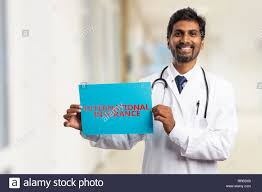Indian_Male: (163, 9, 206, 64)
